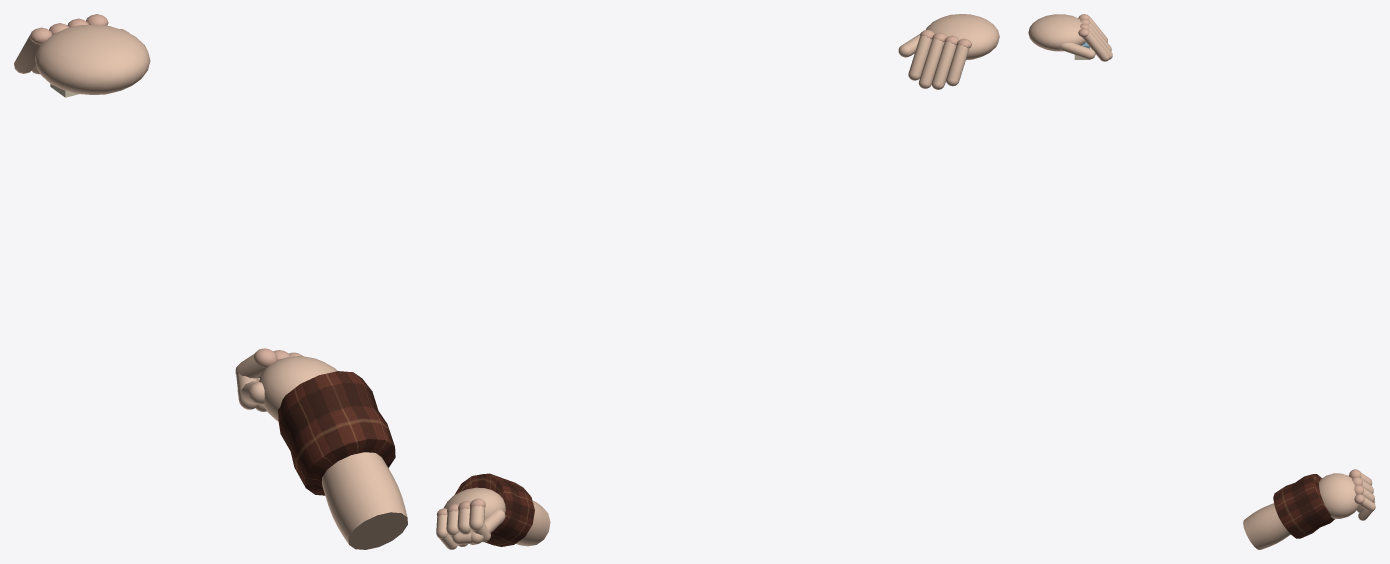
Rendered from fp-cue-hands.glb.
3 views of the same model, side by side, from view 1: azimuth 30°, elevation 25°; view 2: azimuth 150°, elevation 25°; view 3: azimuth 270°, elevation 25° (orthographic). The views are drawn at different scales.
Parts seen in each view (by area): view 1: handR_wrist, handL_skin, handR_skin, handL_knuckles, handR_knuckles; view 2: handL_skin, handR_wrist, handR_skin; view 3: handR_wrist, handL_skin, handR_skin.
Part boxes in pixels (x1,y1,x2,y2): handR_wrist: [278, 371, 407, 549]; handL_skin: [14, 24, 150, 94]; handR_skin: [235, 353, 337, 421]; handL_knuckles: [30, 14, 108, 44]; handR_knuckles: [254, 348, 302, 367]; handL_skin: [898, 14, 999, 89]; handR_wrist: [454, 473, 550, 546]; handR_skin: [436, 487, 505, 549]; handR_wrist: [1243, 474, 1334, 549]; handL_skin: [1028, 14, 1112, 61]; handR_skin: [1319, 472, 1375, 520].
Bounding box in the file's own units: 0.5617 × 0.7229 × 0.5582.
5 materials, 1 textured.
